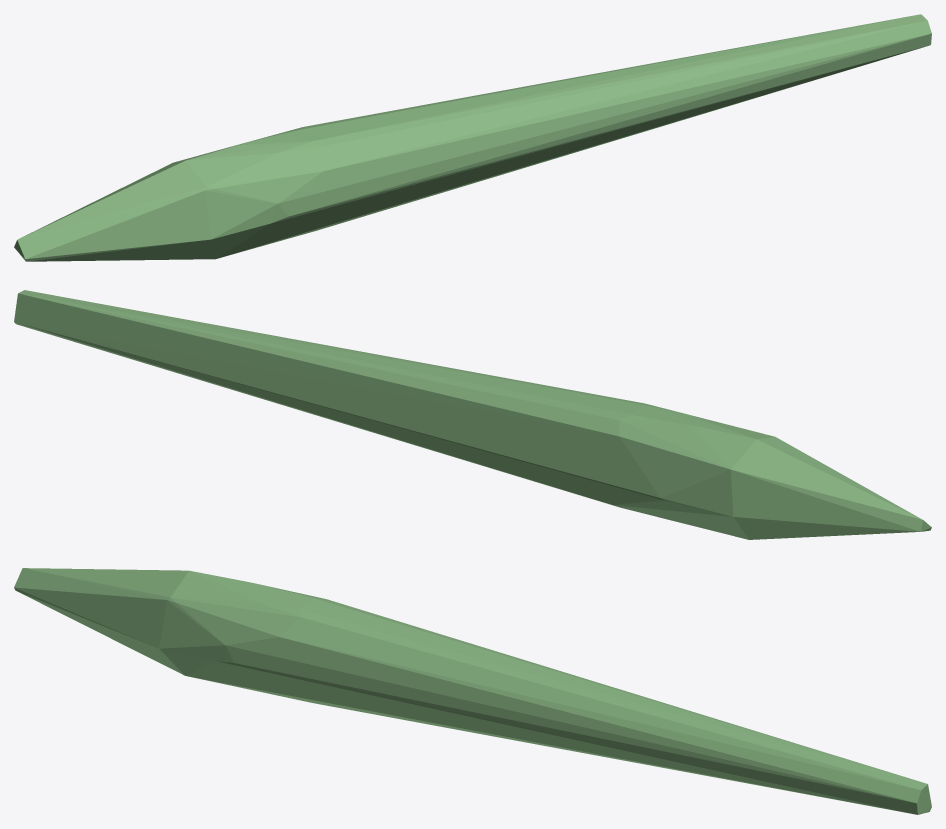
Rendered from drivetrain_axle_shaft_d01.glb.
3 renders of one model, top to bottom at view 1: azimuth 30°, elevation 25°; view 2: azimuth 150°, elevation 25°; view 3: azimuth 330°, elevation 25°, orthographic.
Parts seen in each view (by area): view 1: geometry_0; view 2: geometry_0; view 3: geometry_0.
Boxes of the visible parts, x1,y1,x2,y2 form: geometry_0: [14, 14, 931, 261]; geometry_0: [14, 290, 931, 539]; geometry_0: [14, 568, 931, 814].
Size of the model in its own units: 0.48 by 0.0499 by 0.0501.
